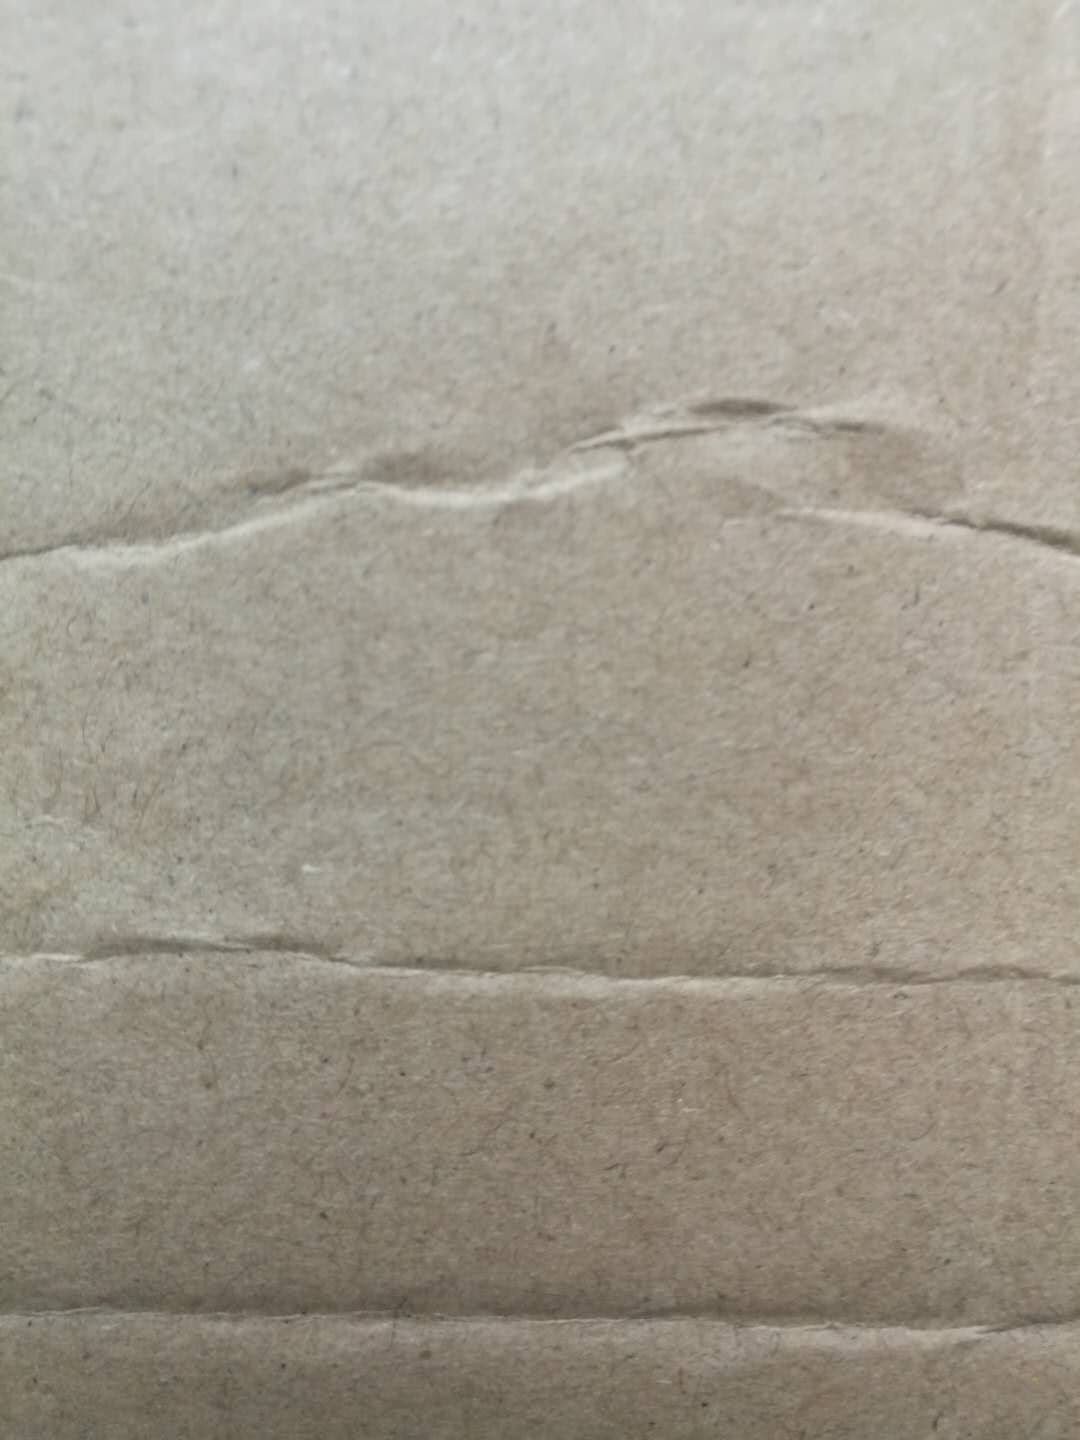defect: (5, 345, 1080, 617), (2, 865, 1079, 1058), (3, 1233, 1080, 1381)
